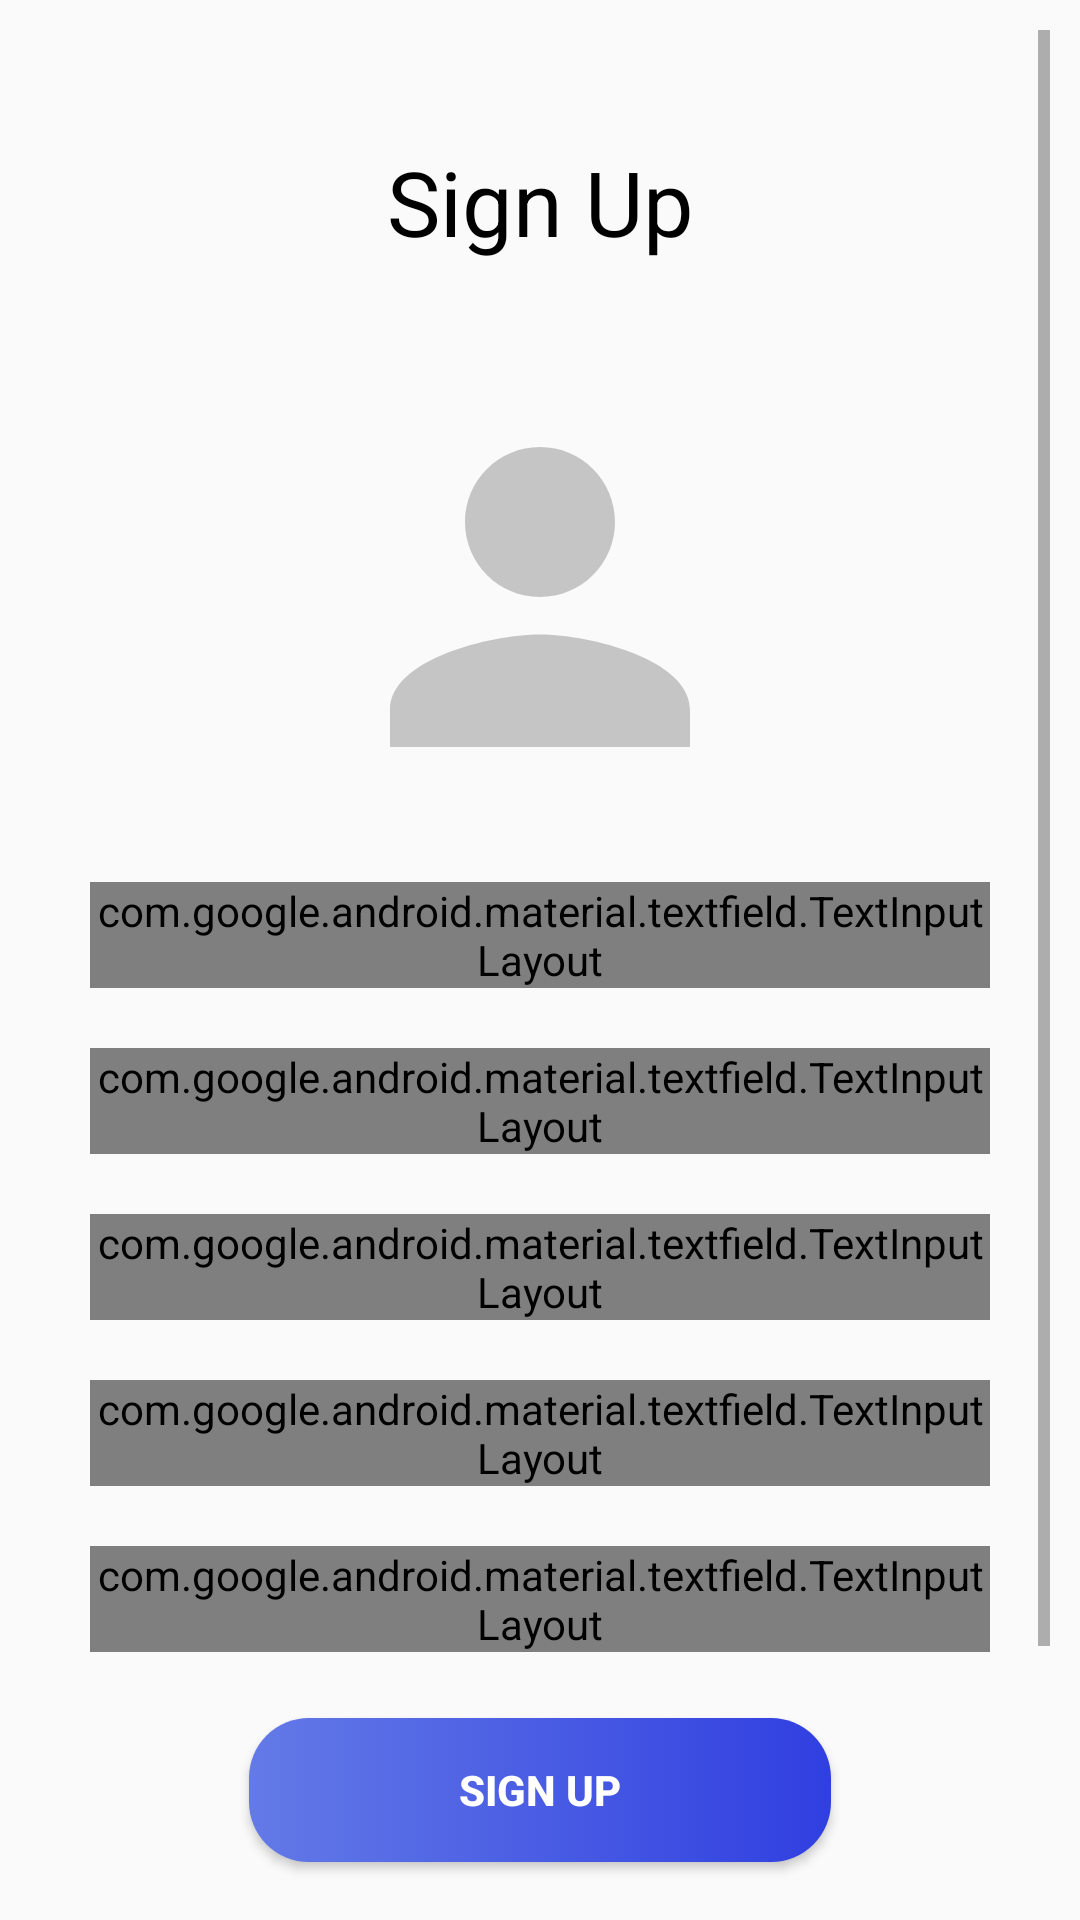

Point at icon controls on the screen. Image size 1080*1920, points as point (x, y).
profile: point (540, 597)
